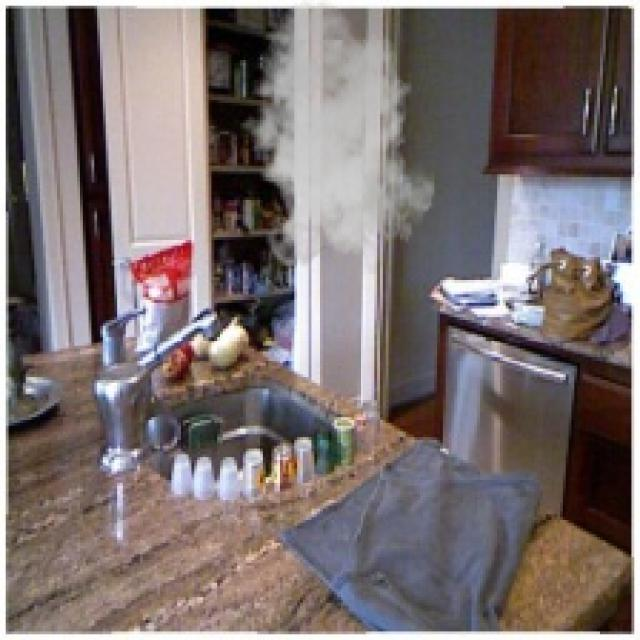smoke: (231, 0, 435, 275)
